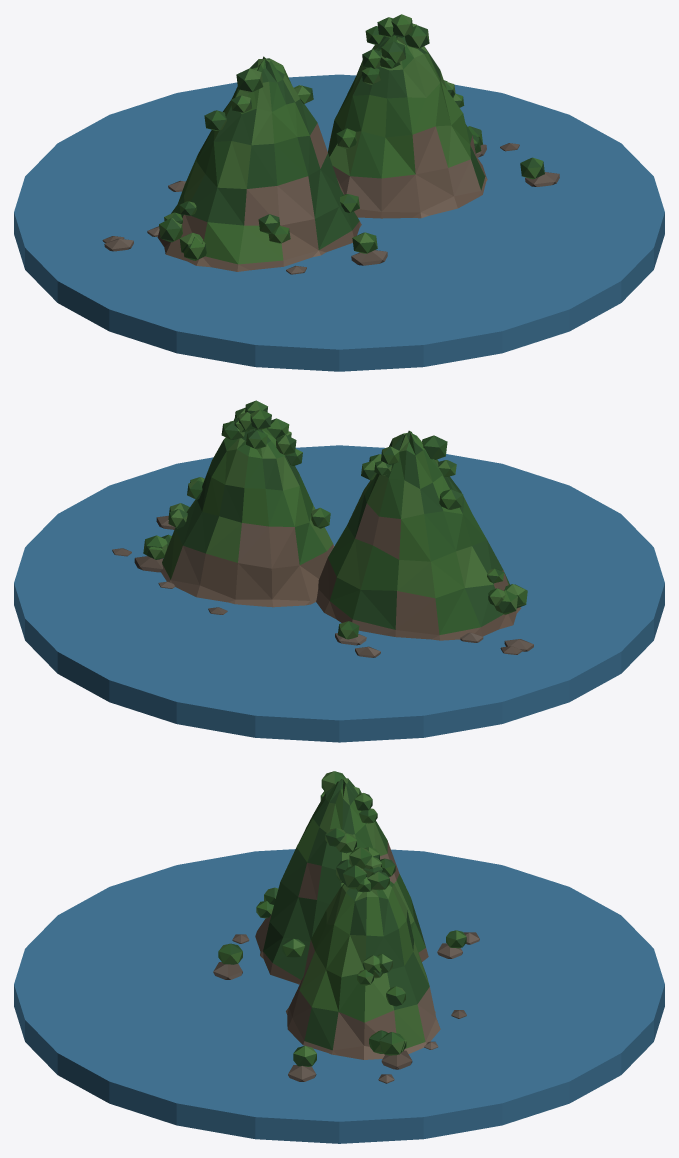
Rendered from morro_dois_irmaos.glb.
3 renders of one model, top to bottom at view 1: azimuth 30°, elevation 25°; view 2: azimuth 150°, elevation 25°; view 3: azimuth 270°, elevation 25°, orthographic.
Visible parts, largest first — view 1: morro_dois_irmaos; view 2: morro_dois_irmaos; view 3: morro_dois_irmaos.
Part boxes in pixels (x1,y1,x2,y2): morro_dois_irmaos: (14, 14, 664, 371); morro_dois_irmaos: (14, 400, 664, 742); morro_dois_irmaos: (14, 771, 664, 1143).
Size of the model in its own units: 160 by 52.77 by 160.
